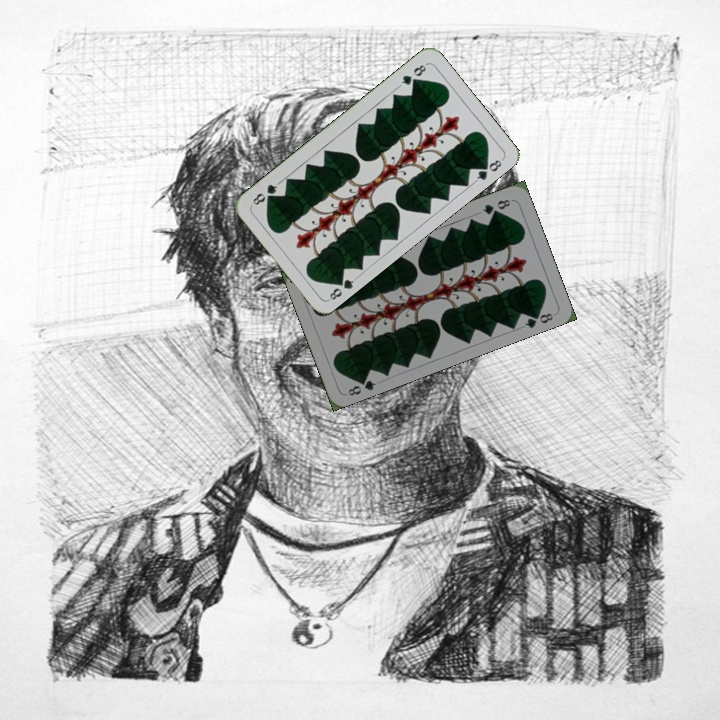G8: (325, 272, 359, 303), (395, 60, 430, 89), (344, 372, 378, 399), (478, 195, 513, 217)
